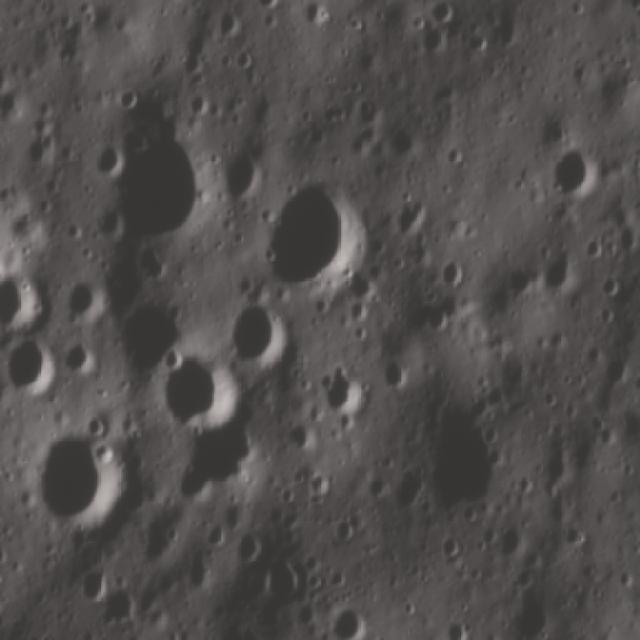crater: (256, 172, 370, 294), (412, 395, 510, 523), (29, 416, 126, 541), (118, 118, 205, 242), (158, 350, 240, 432), (114, 286, 195, 365), (228, 292, 302, 368), (3, 331, 59, 395), (545, 141, 598, 199), (319, 362, 372, 420), (0, 264, 43, 334), (509, 577, 556, 640), (258, 546, 310, 602), (57, 266, 105, 326), (532, 245, 583, 300), (221, 138, 262, 204), (385, 191, 433, 238), (226, 520, 269, 572), (326, 597, 372, 640), (380, 350, 418, 401), (387, 113, 424, 162), (69, 562, 108, 607), (99, 588, 138, 630), (60, 331, 97, 374), (433, 254, 469, 292), (214, 2, 248, 40), (93, 142, 122, 184), (300, 0, 334, 31), (425, 0, 463, 25), (614, 0, 640, 20), (254, 0, 283, 11)
